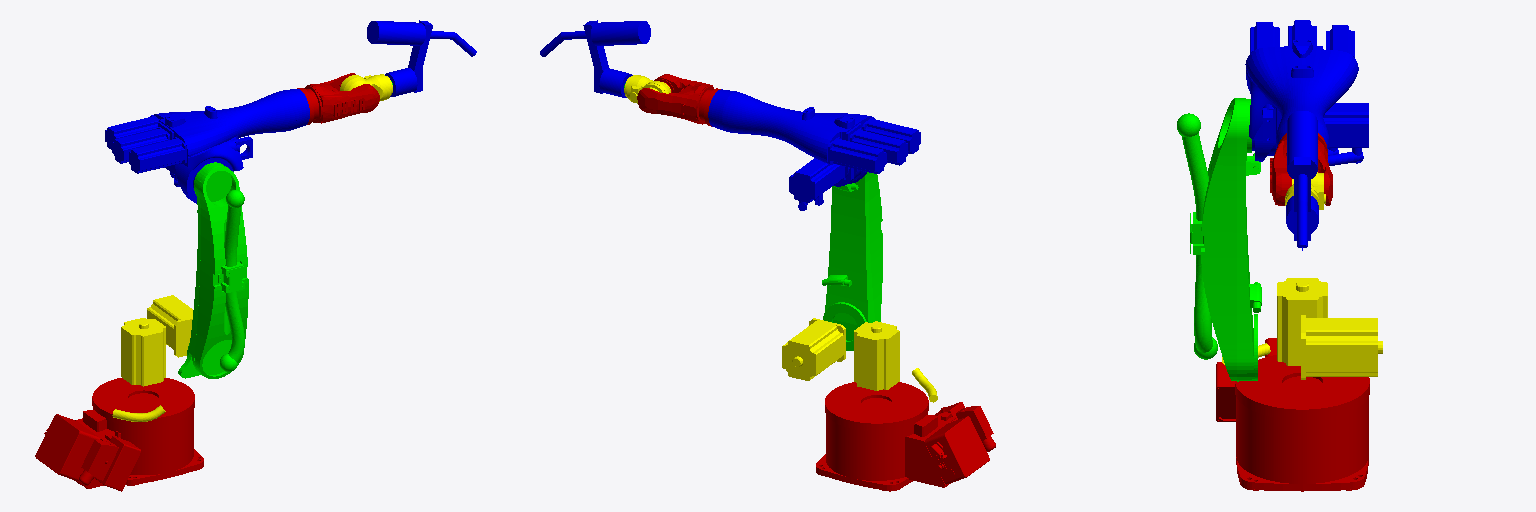
robot.urdf — robot:
<robot name="robot">

<!--__________________________ROBOT KLEUREN____________________________________________-->
<material name="blue">
    <color rgba="0 0 1 1"/>
</material>

<material name="black">
    <color rgba="0 0 0 1"/>
</material>

<material name="white">
    <color rgba="1 1 1 1"/>
</material>

<material name="red">
    <color rgba="0.8 0 0 1"/>
</material>

<material name="green">
    <color rgba="0 1 0 1"/>
</material>

<material name="yellow">
    <color rgba="1 1 0 1"/>
</material>

<!--__________________________LINKS_____________________________________________________-->
	<link name="base_link"> 
 		<visual> 
    		<origin xyz="0 0 0" rpy="0 0 0" /> 
    		<geometry> 
      			<mesh filename="package://kuka_description/meshes/kuka_kr5_arc/visual/Base.stl" 
				scale=".001 .001 .001"/> 
      		</geometry> 
			<material name ="red"/>
 		</visual> 
 		<collision> 
    		<origin xyz="0 0 0" rpy="0 0 0" /> 
    		<geometry> 
      			<mesh filename="package://kuka_description/meshes/kuka_kr5_arc/visual/Base.stl" 
				scale=".001 .001 .001"/> 
      		</geometry> 
 		</collision> 
	</link>	

	<link name="link1"> 
 		<visual> 
   			<origin xyz="0 0 -0.225" rpy="0 0 0" /> 
    		<geometry> 
      			<mesh filename="package://kuka_description/meshes/kuka_kr5_arc/visual/Link1.stl" 
				scale=".001 .001 .001"/> 
      		</geometry> 
			<material name ="yellow"/>
 		</visual> 
 		<collision> 
    		<origin xyz="0 0 -0.225" rpy="0 0 0" /> 
    		<geometry> 
      			<mesh filename="package://kuka_description/meshes/kuka_kr5_arc/visual/Link1.stl" 
				scale=".001 .001 .001"/> 
      		</geometry> 
 		</collision> 
	</link>

	<link name="link2"> 
 		<visual> 
    		<origin xyz="-0.180 0 -0.400" rpy="0 0 0" /> 
    		<geometry> 
      			<mesh filename="package://kuka_description/meshes/kuka_kr5_arc/visual/Link2.stl" 
				scale=".001 .001 .001"/> 
      		</geometry> 
			<material name ="green"/>
 		</visual> 
 		<collision> 
    		<origin xyz="-0.180 0 -0.400" rpy="0 0 0" /> 
    		<geometry> 
      			<mesh filename="package://kuka_description/meshes/kuka_kr5_arc/visual/Link2.stl" 
				scale=".001 .001 .001"/> 
      		</geometry> 
 		</collision> 
	</link>	

	<link name="link3"> 
 		<visual> 
    		<origin xyz="-0.180 0 -1.0" rpy="0 0 0" /> 
    		<geometry> 
      			<mesh filename="package://kuka_description/meshes/kuka_kr5_arc/visual/Link3.stl" 
				scale=".001 .001 .001"/> 
      		</geometry> 
			<material name ="blue"/>
 		</visual> 
 		<collision> 
    		<origin xyz="-0.180 0 -1.0" rpy="0 0 0" /> 
    		<geometry> 
     			<mesh filename="package://kuka_description/meshes/kuka_kr5_arc/visual/Link3.stl" 
				scale=".001 .001 .001"/> 
      		</geometry> 
 		</collision> 
	</link>			

	<link name="link4"> 
 		<visual> 
    		<origin xyz="-0.5835 0 -1.12" rpy="0 0 0" /> 
    		<geometry> 
      			<mesh filename="package://kuka_description/meshes/kuka_kr5_arc/visual/Link4.stl" 
				scale=".001 .001 .001"/> 
      		</geometry>
			<material name ="red"/> 
 		</visual> 
 		<collision> 
    		<origin xyz="-0.5835 0 -1.12" rpy="0 0 0" /> 
    		<geometry> 
      			<mesh filename="package://kuka_description/meshes/kuka_kr5_arc/visual/Link4.stl" 
				scale=".001 .001 .001"/> 
      		</geometry> 
 		</collision> 
	</link>	

	<link name="link5">
 		<visual> 
    		<origin xyz="-0.800 0 -1.12" rpy="0 0 0" /> 
    		<geometry> 
      			<mesh filename="package://kuka_description/meshes/kuka_kr5_arc/visual/Link5.stl" 
				scale=".001 .001 .001"/> 
      		</geometry> 
			<material name ="yellow"/>
 		</visual> 
 		<collision> 
    		<origin xyz="-0.800 0 -1.12" rpy="0 0 0" /> 
    		<geometry> 
      			<mesh filename="package://kuka_description/meshes/kuka_kr5_arc/visual/Link5.stl" 
				scale=".001 .001 .001"/> 
     		</geometry> 
 		</collision>  
 	</link>	

	<link name="link6"> 
 		<visual> 
    		<origin xyz="-0.9088 0 -1.12" rpy="0 0 0" /> 
    		<geometry> 
     			 <mesh filename="package://kuka_description/meshes/kuka_kr5_arc/visual/Link6.stl" 
				scale=".001 .001 .001"/> 
      		</geometry> 
			<material name ="green"/>
     	</visual> 
 		<collision> 
    		<origin xyz="-0.9088 0 -1.12" rpy="0 0 0" /> 
    		<geometry> 
      			<mesh filename="package://kuka_description/meshes/kuka_kr5_arc/visual/Link6.stl" 
				scale=".001 .001 .001"/> 
      		</geometry> 
 		</collision> 
	</link>	

	<link name="link7"> 
 		<visual> 
    		<origin xyz="0 0 0" rpy="0 0 0" /> 
    		<geometry> 
      			<mesh filename="package://kuka_description/meshes/Welding_Torch/Assembly4_origin_tip3.stl" 
				scale=".01 .01 .01"/> 
      		</geometry> 
			<material name ="blue"/>
 		</visual> 
 		<collision> 
    		<origin xyz="0 0 0" rpy="0 0 0" /> 
    		<geometry> 
      			<mesh filename="package://kuka_description/meshes/Welding_Torch/Assembly4_origin_tip3.stl" 
				scale=".01 .01 .01"/> 
      		</geometry> 
 		</collision> 
	</link>	

	<link name="endpoint"/> 

<!--__________________________JOINTS__________________________________________________-->

	<joint name="joint_1" type="revolute">
		<parent link="base_link"/>
		<child link="link1"/>
		<origin xyz="0 0 0.225" rpy="0 0 0" />	 
  		<axis xyz="0 0 -1" />
  		<limit lower="-2.70526034" upper="2.70526034" effort="0" velocity="0" />
		<material name ="black"/>
	</joint>

	<joint name="joint_2" type="revolute">
		<parent link="link1"/>
		<child link="link2"/>
		<origin xyz="0.180 0 0.175" rpy="0 0 0" />
  		<axis xyz="0 1 0" />
 		<limit lower="-3.1415927" upper="1.13446401" effort="0" velocity="0" />
	</joint>
 
	<joint name="joint_3" type="revolute">
		<parent link="link2"/>
		<child link="link3"/>
		<origin xyz="0 0 0.600" rpy="0 0 0" />
 		<axis xyz="0 1 0" />
 		<limit lower="-0.2617994" upper="2.75762022" effort="0" velocity="0" />
	</joint>

	<joint name="joint_4" type="revolute">
		<parent link="link3"/>
		<child link="link4"/>
		<origin xyz="0.4035 0 0.120" rpy="0 0 0" />
 		<axis xyz="-1 0 0" />
  		<limit lower="-6.10865238" upper="6.10865238" effort="0" velocity="0" />
	</joint>

	<joint name="joint_5" type="revolute">
		<parent link="link4"/>
		<child link="link5"/>
		<origin xyz="0.2165 0 0" rpy="0 0 0" />
  		<axis xyz="0 1 0" />
  		<limit lower="-2.26892803" upper="2.26892803" effort="0" velocity="0" />
	</joint>
 
	<joint name="joint_6" type="revolute">
		<parent link="link5"/>
		<child link="link6"/>
		<origin xyz="0.1088 0 0" rpy="0 0 0" />
  		<axis xyz="-1 0 0" />
  		<limit lower="-6.10865238" upper="6.10865238" effort="0" velocity="0" />
	</joint>

	<joint name="joint_7" type="fixed">
		<parent link="link6"/>
		<child link="link7"/>
		<origin xyz="0.326 0 0.034" rpy="0 0 3.141529" />
	</joint>

	<joint name="joint_8" type= "continuous">
		<parent link="link7"/>
		<child link="endpoint"/>
		<origin xyz="0 0 0" rpy="0 3.92685325 0" />
		<axis xyz="0 0 1" />
	</joint>

</robot>

--- Render facts (derived) ---
Views: 3 orthographic renders of the robot side by side, from view 1: azimuth 30°, elevation 25°; view 2: azimuth 150°, elevation 25°; view 3: azimuth 270°, elevation 25°.
Model robot with 9 links and 8 joints (6 revolute, 1 continuous, 1 fixed), rooted at base_link, posed every joint at zero.
Visible links, largest first — view 1: base_link, link2, link3, link1, link7, link4, link5; view 2: base_link, link3, link2, link1, link7, link4, link5; view 3: base_link, link2, link3, link1, link7, link4.
Boxes of the visible links, x1,y1,x2,y2 form: base_link: (35, 378, 203, 491); link2: (178, 162, 248, 378); link3: (105, 89, 309, 203); link1: (112, 295, 192, 421); link7: (367, 20, 476, 96); link4: (297, 73, 379, 124); link5: (340, 74, 392, 101); base_link: (816, 382, 995, 491); link3: (708, 89, 920, 210); link2: (822, 172, 882, 350); link1: (782, 318, 937, 402); link7: (540, 20, 650, 97); link4: (637, 74, 720, 126); link5: (624, 75, 670, 103); base_link: (1216, 338, 1369, 491); link2: (1177, 98, 1261, 381); link3: (1245, 20, 1368, 165); link1: (1222, 278, 1382, 379); link7: (1286, 111, 1318, 250); link4: (1270, 133, 1332, 205).
Size in the robot's own frame: 1.6 by 0.5075 by 1.36 metres.
8 mesh visuals loaded from 8 distinct referenced files (8 binary STL).